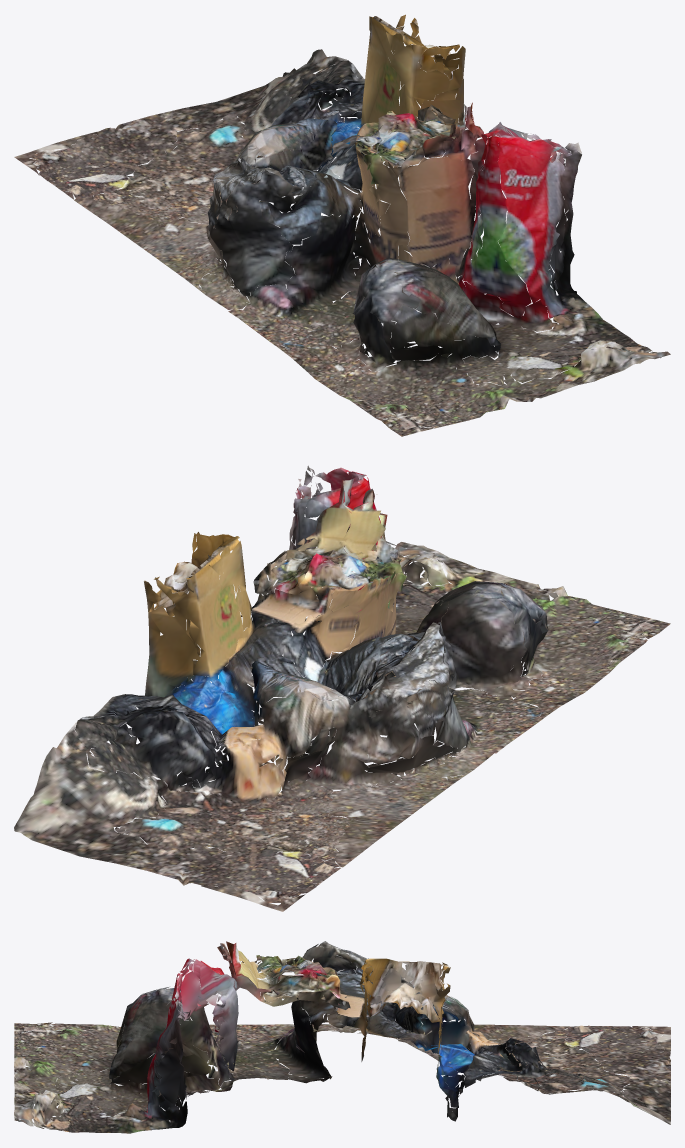
The model's file is trash_pile.glb.
3 renders of one model, top to bottom at view 1: azimuth 30°, elevation 25°; view 2: azimuth 150°, elevation 25°; view 3: azimuth 270°, elevation 25°, orthographic. The views are drawn at different scales.
Parts seen in each view (by area): view 1: Object_4; view 2: Object_4; view 3: Object_4.
Part boxes in pixels (bbox=[...]): Object_4: bbox=[14, 14, 670, 436]; Object_4: bbox=[14, 465, 670, 911]; Object_4: bbox=[14, 941, 670, 1133].
Size of the model in its own units: 1.25 by 0.8767 by 3.09.
1 material, 1 textured.
